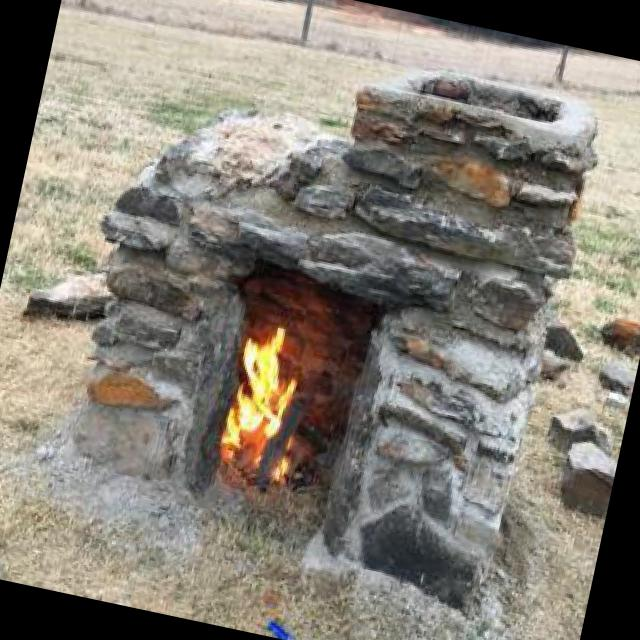Fire: (204, 319, 320, 493)
